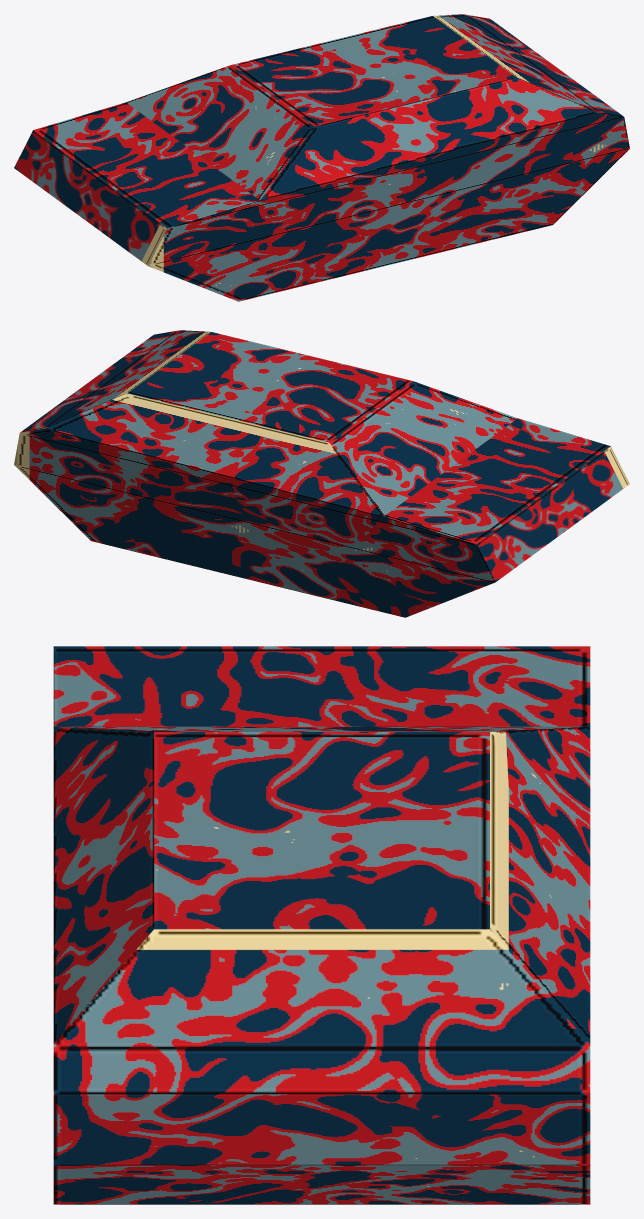
Rendered from T34body.obj.
3 views of the same model, one above another, from view 1: azimuth 30°, elevation 25°; view 2: azimuth 150°, elevation 25°; view 3: azimuth 270°, elevation 25° (orthographic). The views are drawn at different scales.
Visible parts, largest first — view 1: Cube_Cube.001; view 2: Cube_Cube.001; view 3: Cube_Cube.001.
Part boxes in pixels (x1=…): Cube_Cube.001: x1=14, y1=14, x2=629, y2=301; Cube_Cube.001: x1=14, y1=330, x2=629, y2=617; Cube_Cube.001: x1=53, y1=646, x2=590, y2=1204.
Bounding box in the file's own units: 8.76 × 2.3 × 4.23.
